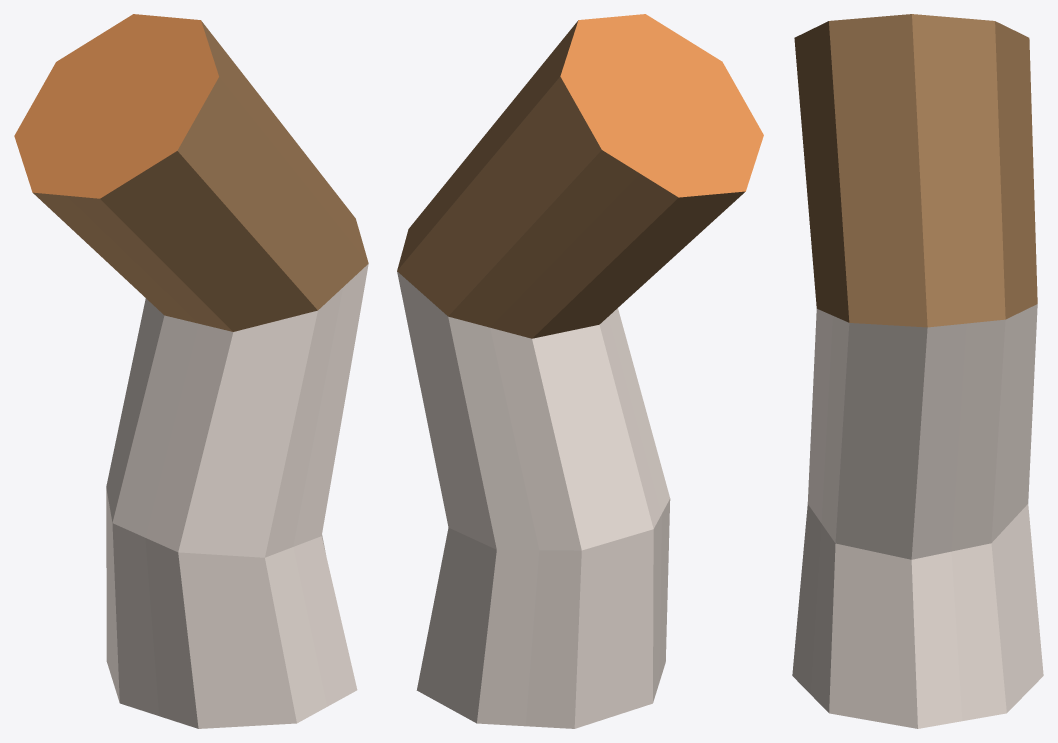
File: cigarette3.fbx
The picture shows the model from 3 angles, left to right: view 1: azimuth 30°, elevation 25°; view 2: azimuth 150°, elevation 25°; view 3: azimuth 270°, elevation 25°; orthographic projection. The views are drawn at different scales.
Parts seen in each view (by area): view 1: Cylinder.006; view 2: Cylinder.006; view 3: Cylinder.006.
Boxes of the visible parts, x1=… form: Cylinder.006: x1=14, y1=14, x2=368, y2=728; Cylinder.006: x1=397, y1=14, x2=763, y2=728; Cylinder.006: x1=792, y1=14, x2=1043, y2=728.
Size of the model in its own units: 214 by 425 by 145.
